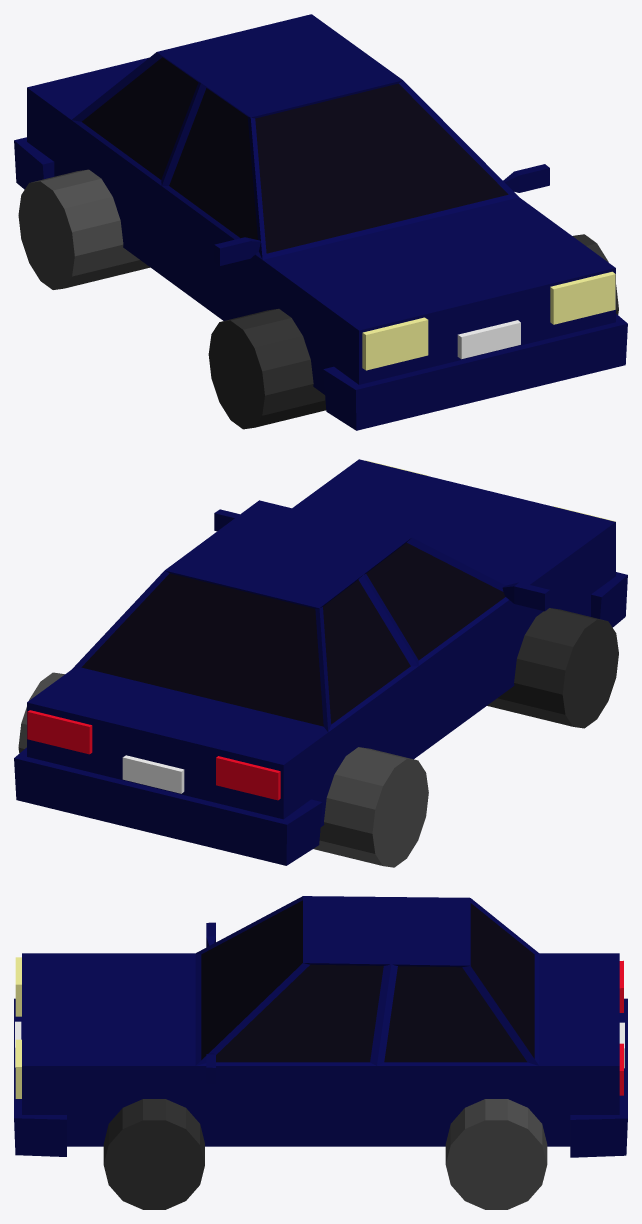
Rendered from Car.fbx.
The picture shows the model from 3 angles, top to bottom: view 1: azimuth 30°, elevation 25°; view 2: azimuth 150°, elevation 25°; view 3: azimuth 270°, elevation 25°; orthographic projection. The views are drawn at different scales.
Parts seen in each view (by area): view 1: Cube, Cylinder, Cylinder.002, Cube.002, Cube.003, Cube.005; view 2: Cube, Cylinder.002, Cylinder, Cube.004, Cube.006, Cube.003; view 3: Cube, Cylinder.002, Cylinder, Cube.002, Cube.003, Cube.004.
Boxes of the visible parts, <box> form: Cube: <box>14,14,627,430</box>; Cylinder: <box>208,234,618,429</box>; Cylinder.002: <box>18,169,150,289</box>; Cube.002: <box>362,271,615,370</box>; Cube.003: <box>214,164,549,265</box>; Cube.005: <box>457,320,520,359</box>; Cube: <box>14,459,627,865</box>; Cylinder.002: <box>18,672,428,867</box>; Cylinder: <box>487,608,618,728</box>; Cube.004: <box>27,710,280,800</box>; Cube.006: <box>122,755,184,793</box>; Cube.003: <box>214,509,549,611</box>; Cube: <box>14,896,627,1157</box>; Cylinder.002: <box>445,1099,547,1209</box>; Cylinder: <box>103,1099,204,1209</box>; Cube.002: <box>15,957,21,1098</box>; Cube.003: <box>206,922,215,1083</box>; Cube.004: <box>619,960,623,1095</box>.
Size of the model in its own units: 276 by 166 by 460.
